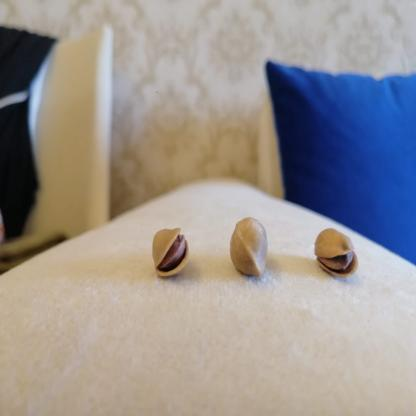pistachio: (225, 218, 276, 279), (309, 222, 364, 278), (148, 218, 198, 277)
